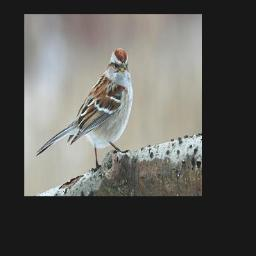Sparrow: (35, 46, 131, 172)
